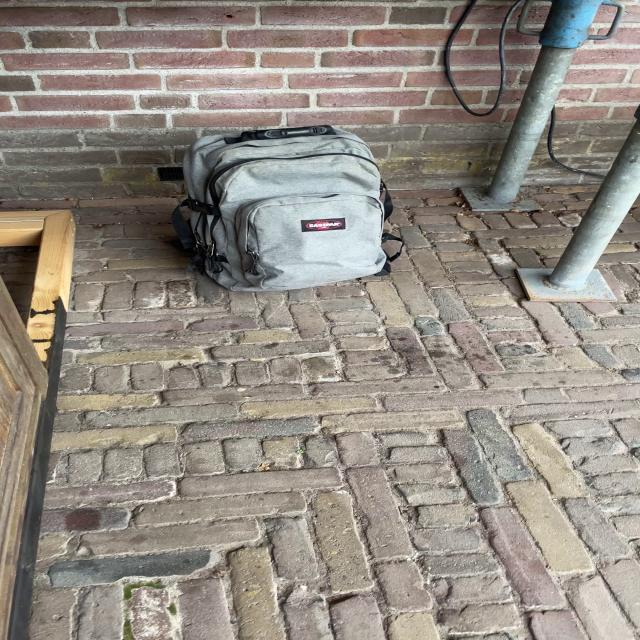backpack: (160, 117, 405, 297)
